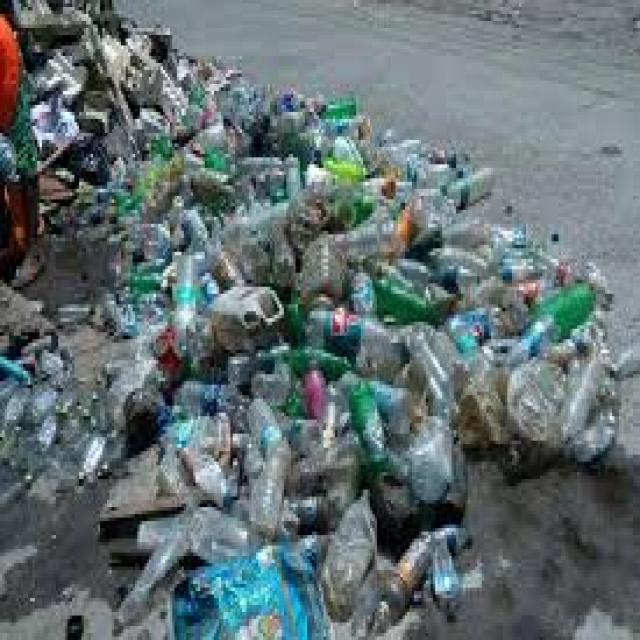heap: (110, 110, 513, 582)
